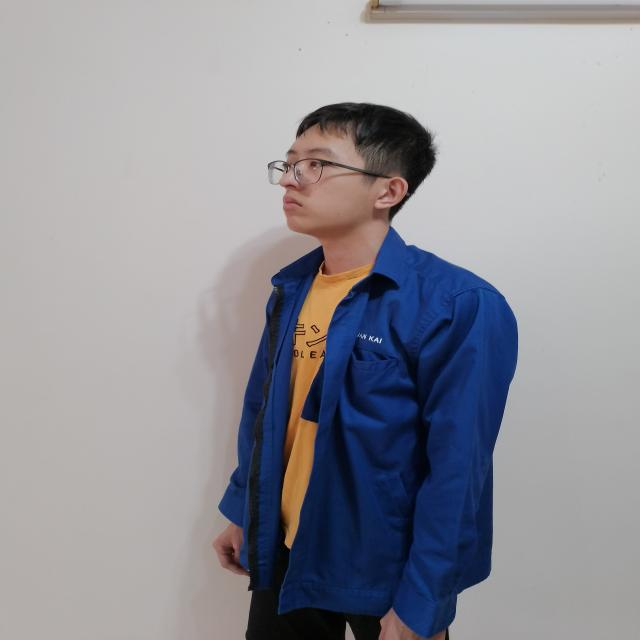person_with_labcoat: (215, 103, 517, 640)
